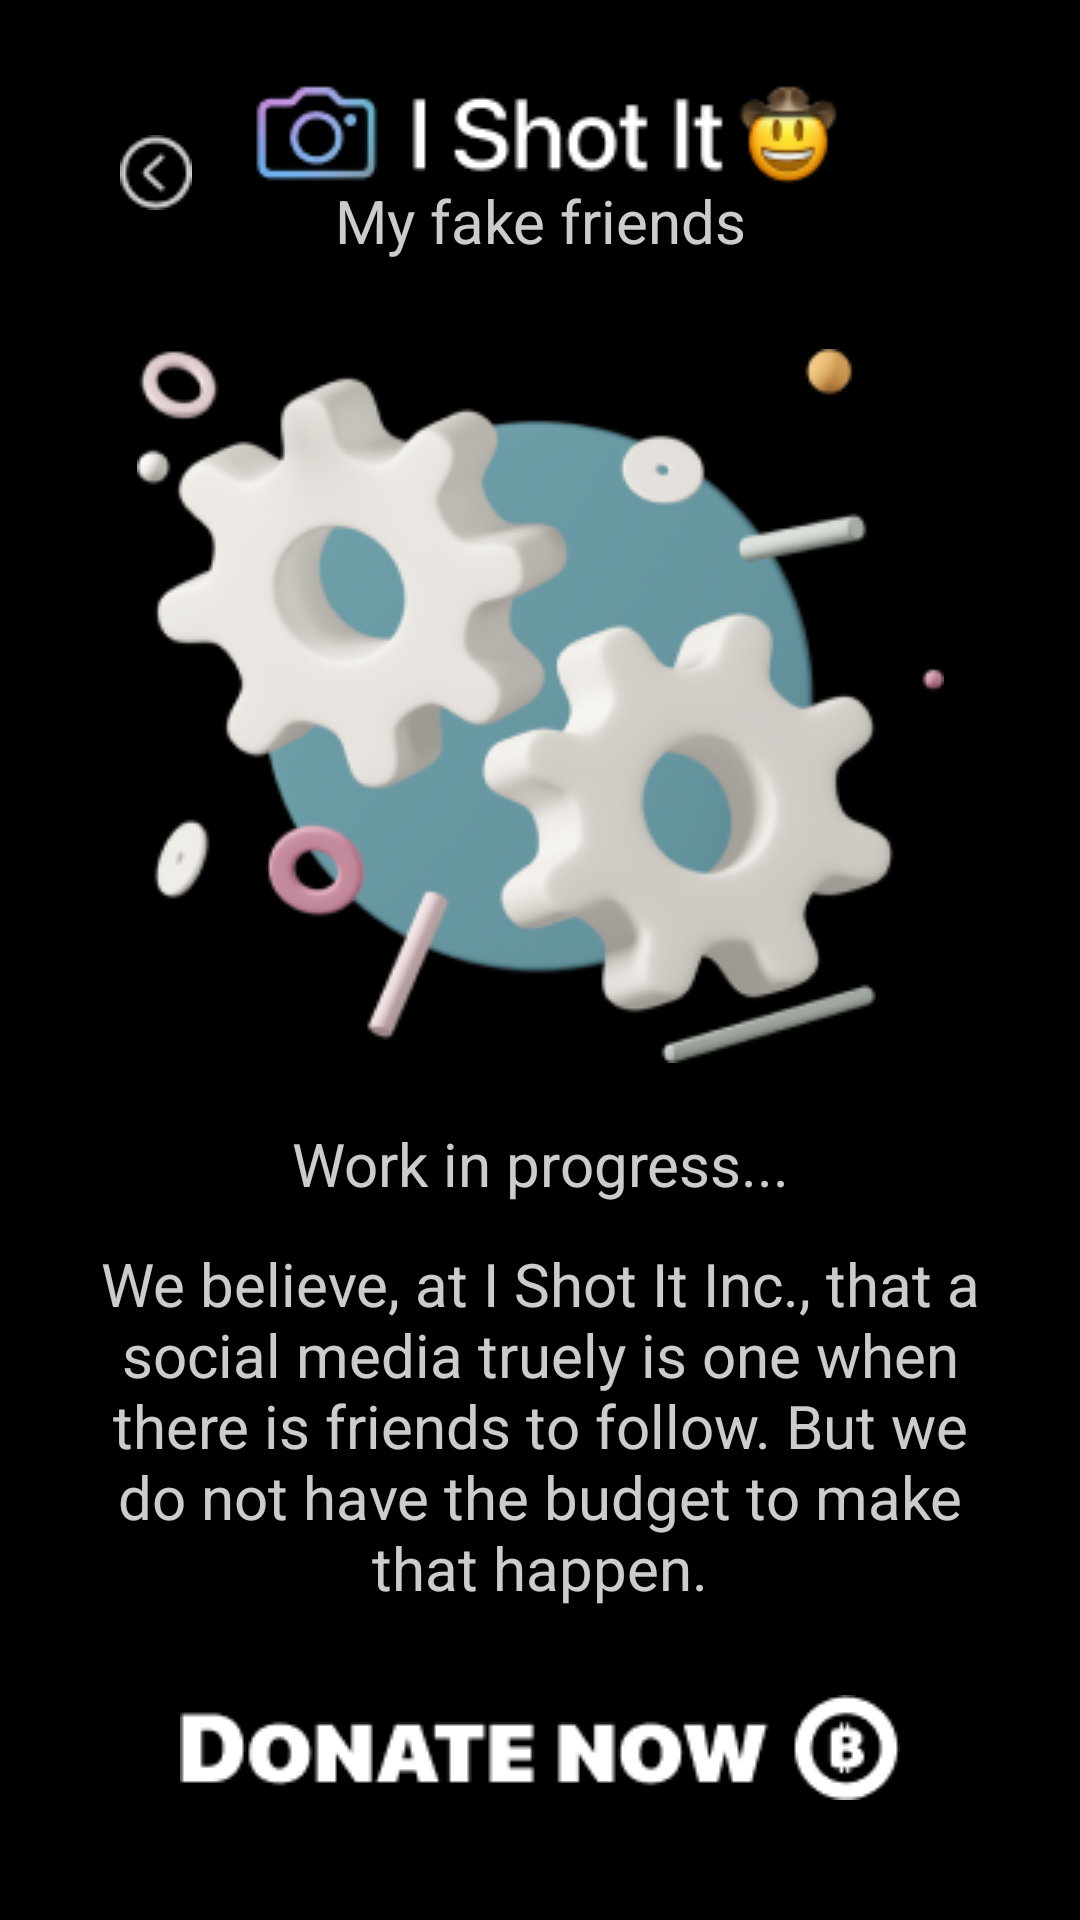

Icon click points for this 1080px x 1920px phone screenshot, format (x=x, y=y):
Back: (x=156, y=172)
